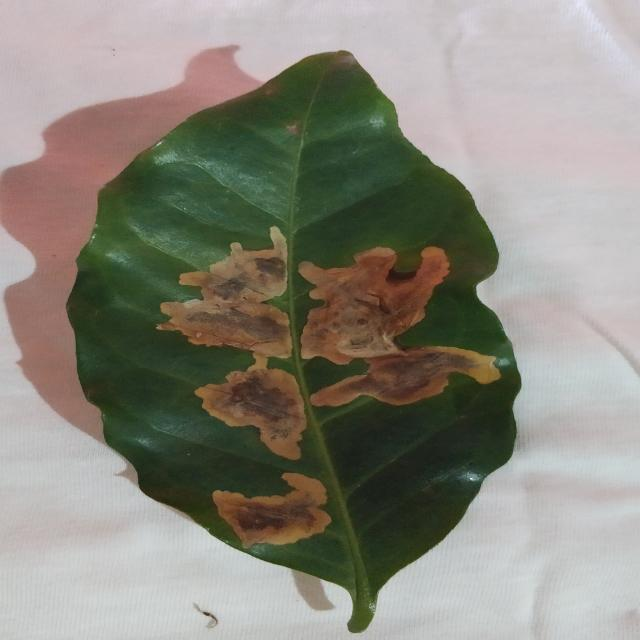Plaga-Minador: (65, 51, 522, 634)
